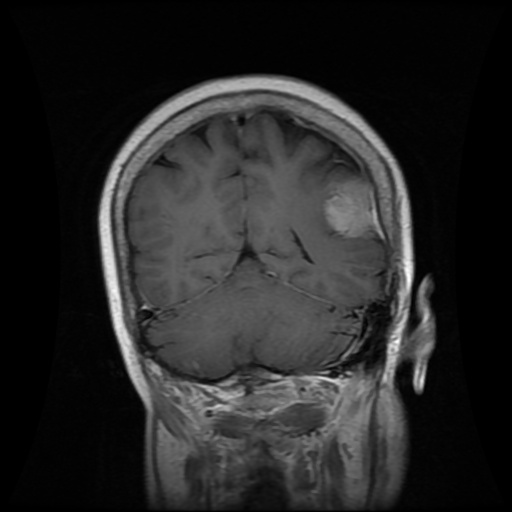meningioma: (322, 171, 378, 239)
